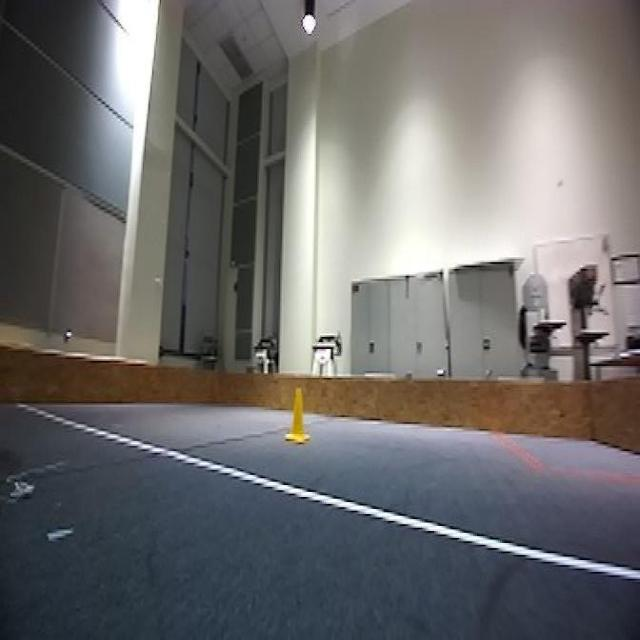frc_cone: (286, 388, 310, 446)
